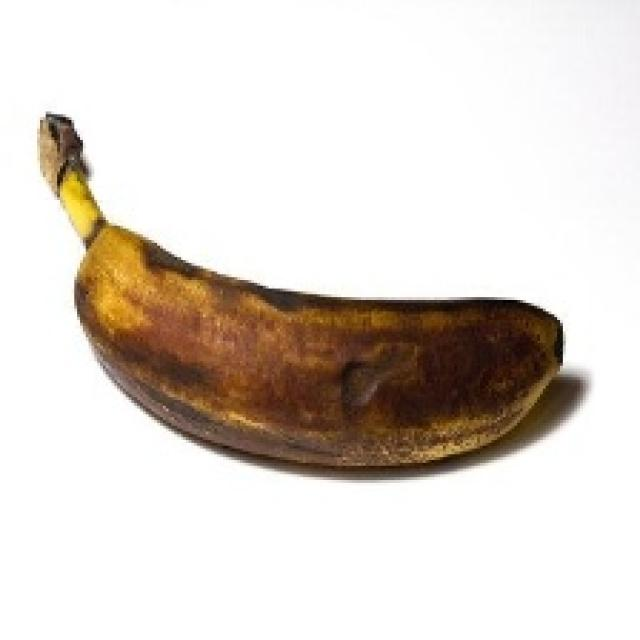Banana: (34, 109, 563, 468)
